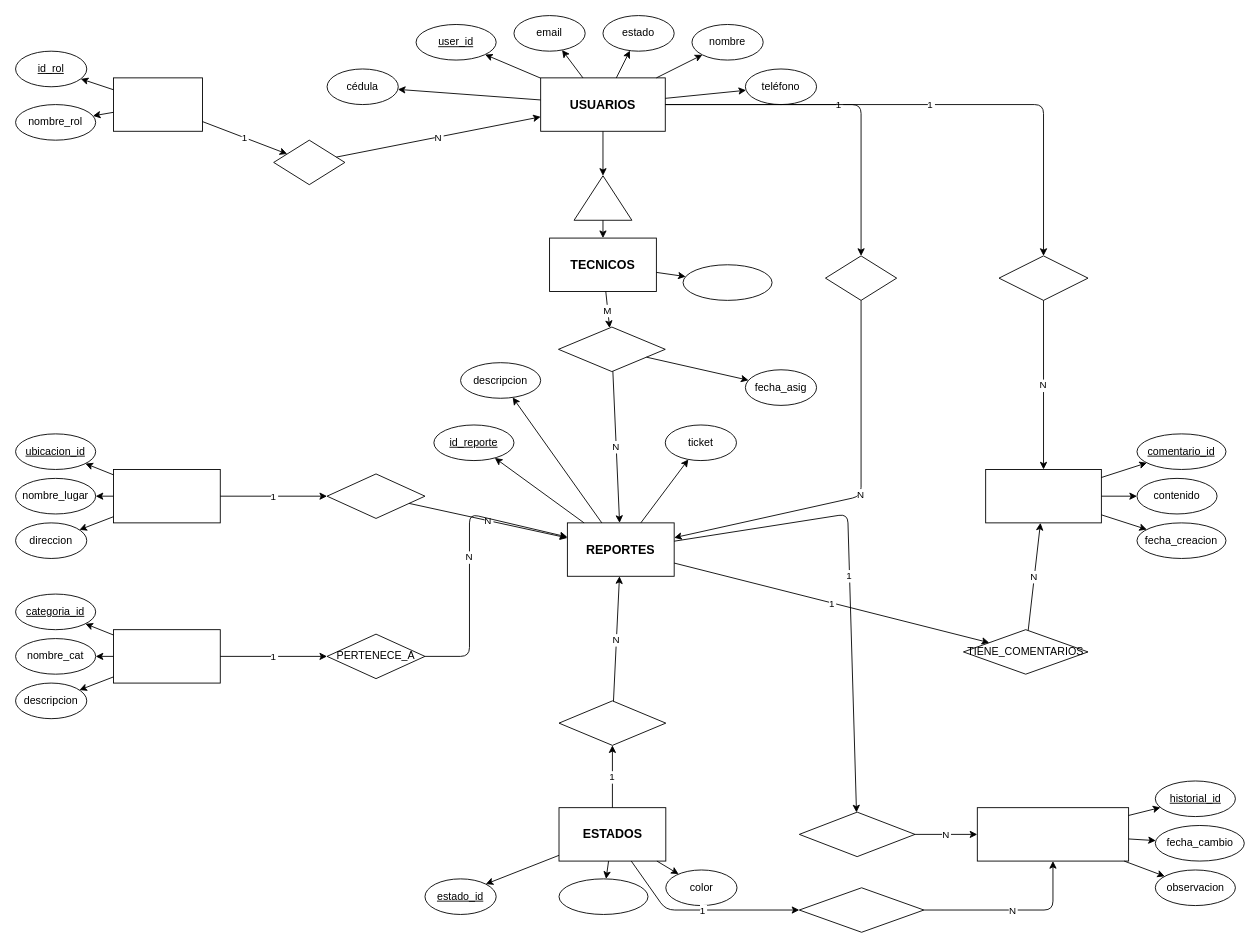
This 1260x948 diagram has some shape labels left out. The box of each missing label's shape, as (x1, y1, x2, y2) in pixels:
ASIGNADO_A: (558, 326, 665, 372)
CATEGORIAS: (113, 629, 220, 683)
COMENTARIOS: (985, 469, 1101, 523)
CREA: (825, 255, 897, 300)
ESCRIBE: (998, 255, 1088, 300)
especialidad: (682, 264, 772, 300)
HISTORIAL_REPORTES: (976, 807, 1129, 861)
ISA: (573, 175, 632, 220)
nombre_estado: (558, 878, 648, 914)
REGISTRA_ESTADO: (798, 887, 924, 932)
ROLES: (113, 77, 202, 131)
SE_UBICA_EN: (326, 473, 425, 518)
TIENE: (273, 139, 345, 185)
TIENE_ESTADO: (558, 700, 666, 745)
TIENE_HISTORIAL: (798, 811, 915, 857)
UBICACIONES: (113, 469, 220, 523)
